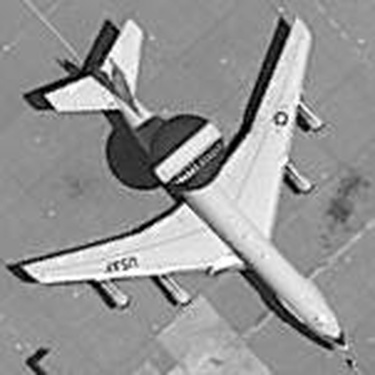airplane: (4, 9, 358, 355)
